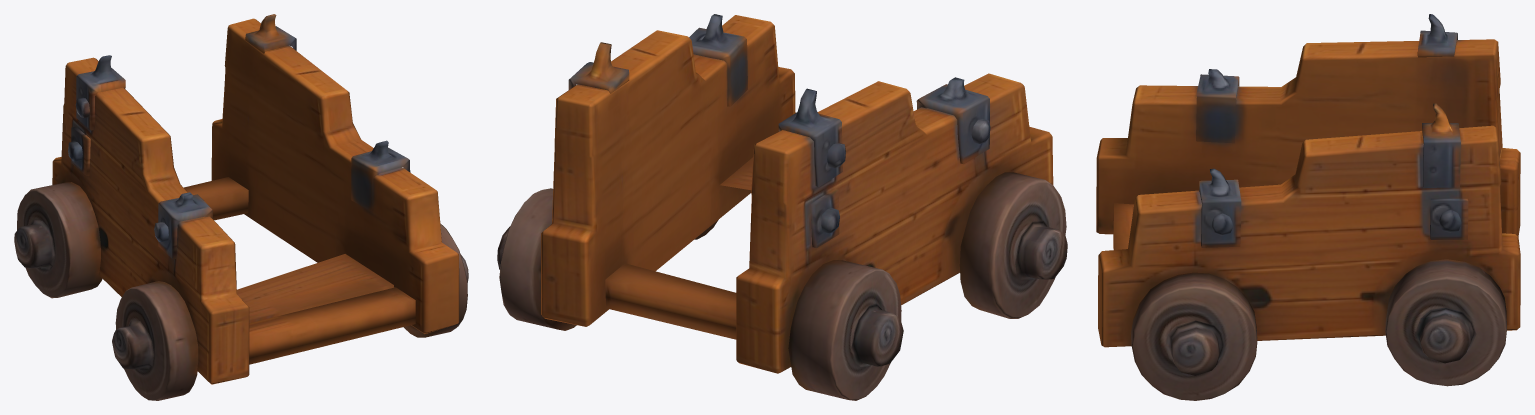
File: gun_carriage.glb
The picture shows the model from 3 angles, left to right: view 1: azimuth 30°, elevation 25°; view 2: azimuth 150°, elevation 25°; view 3: azimuth 270°, elevation 25°; orthographic projection. The views are drawn at different scales.
Visible parts, largest first — view 1: carriage; view 2: carriage; view 3: carriage.
Boxes of the visible parts, x1=… form: carriage: x1=14, y1=14, x2=468, y2=400; carriage: x1=497, y1=14, x2=1067, y2=400; carriage: x1=1096, y1=14, x2=1520, y2=400.
Bounding box in the file's own units: 1.09 × 0.7656 × 1.1.
Materials: 1 (1 with a texture image).
